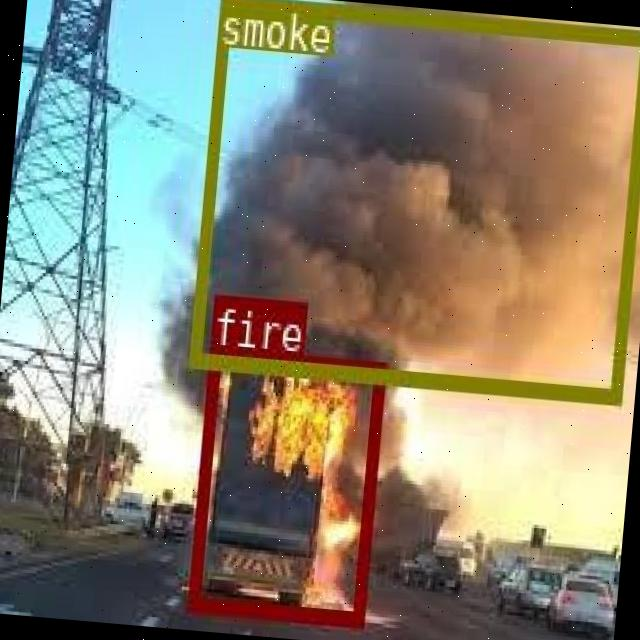fire: (185, 344, 384, 622)
smoke: (186, 0, 640, 402)
